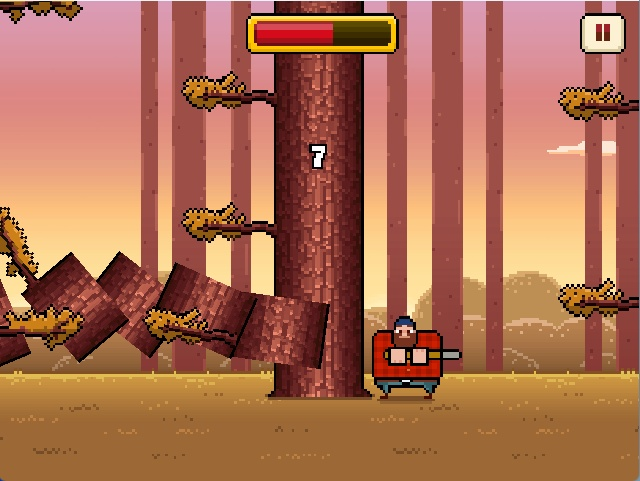left_obs: (175, 68, 281, 123), (177, 198, 280, 251)
timberman: (364, 305, 466, 405)
